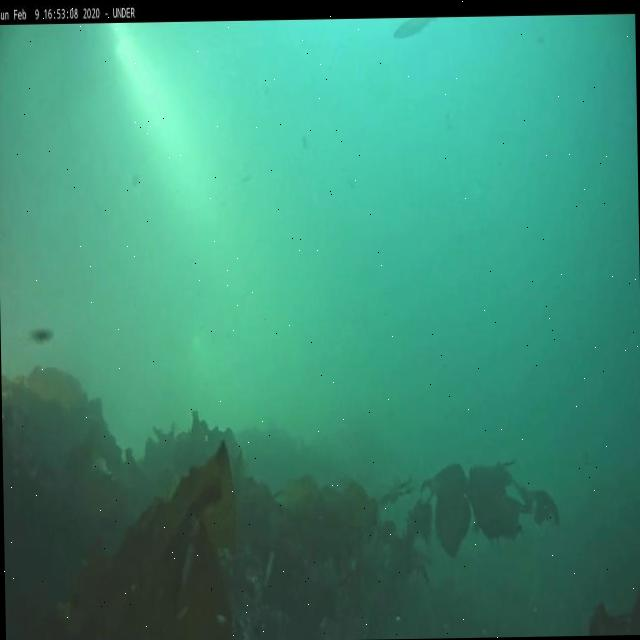fish: (390, 16, 430, 40)
